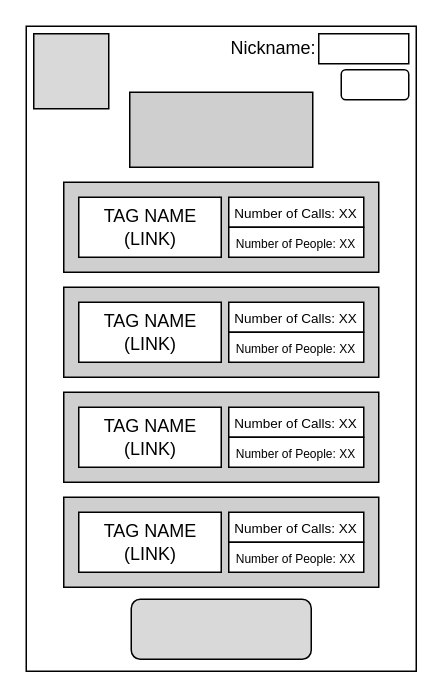
Some shapes in this 443 by 698 pixel diagram are drawn without their labels. The shapes that lost their labels are listed below. From the top down, each one's centre as x and y in pixels, then its label:
At point (70, 70): "LOGO/ HOME".
At point (374, 84): "confirm".
At point (220, 129): "MOST POPULAR TAGS:".
At point (220, 628): "LOAD MORE TAGS".
